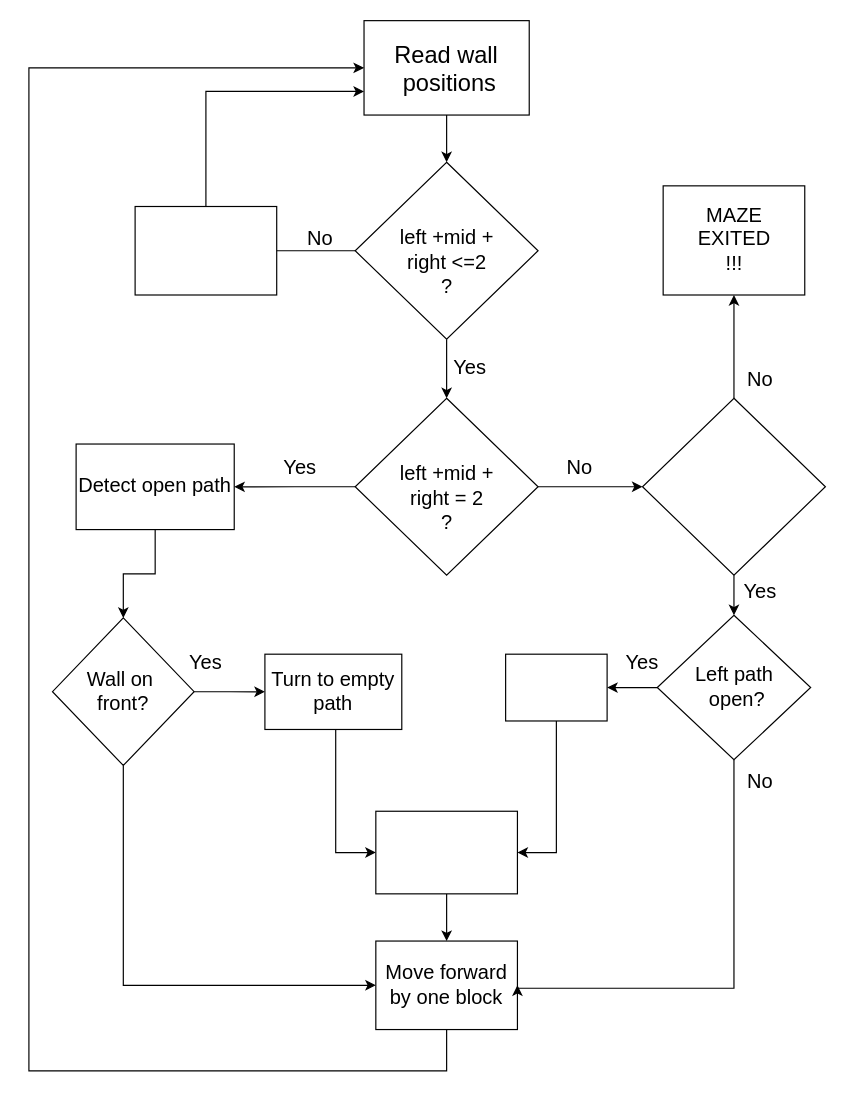
This 846x1101 diagram has some shape labels left out. Each missing label, with the centre of its shape:
"left +mid + right =1 ?" goes at [733,486].
"Take a U-turn" goes at [205,250].
"Turn LEFT" goes at [555,687].
"Update direction" goes at [446,852].
